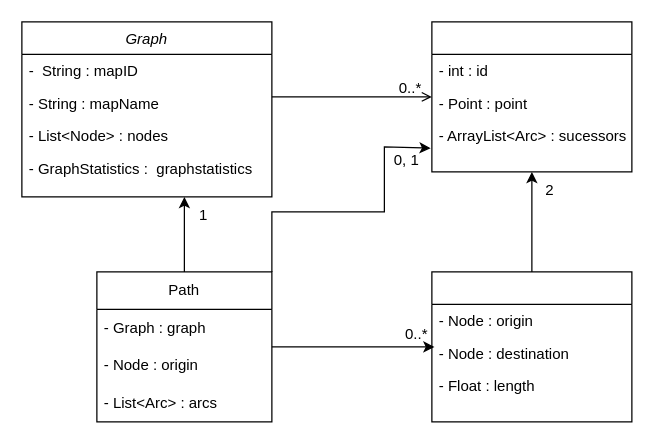
Some shapes in this 654 by 444 pixel diagram are drawn without their labels. The shapes that lost their labels are listed below. From the top down, each one's box as (x1, y1, x2, y2) in pixels, then its label:
(431, 21, 632, 172): Node
(431, 271, 632, 422): Arc
